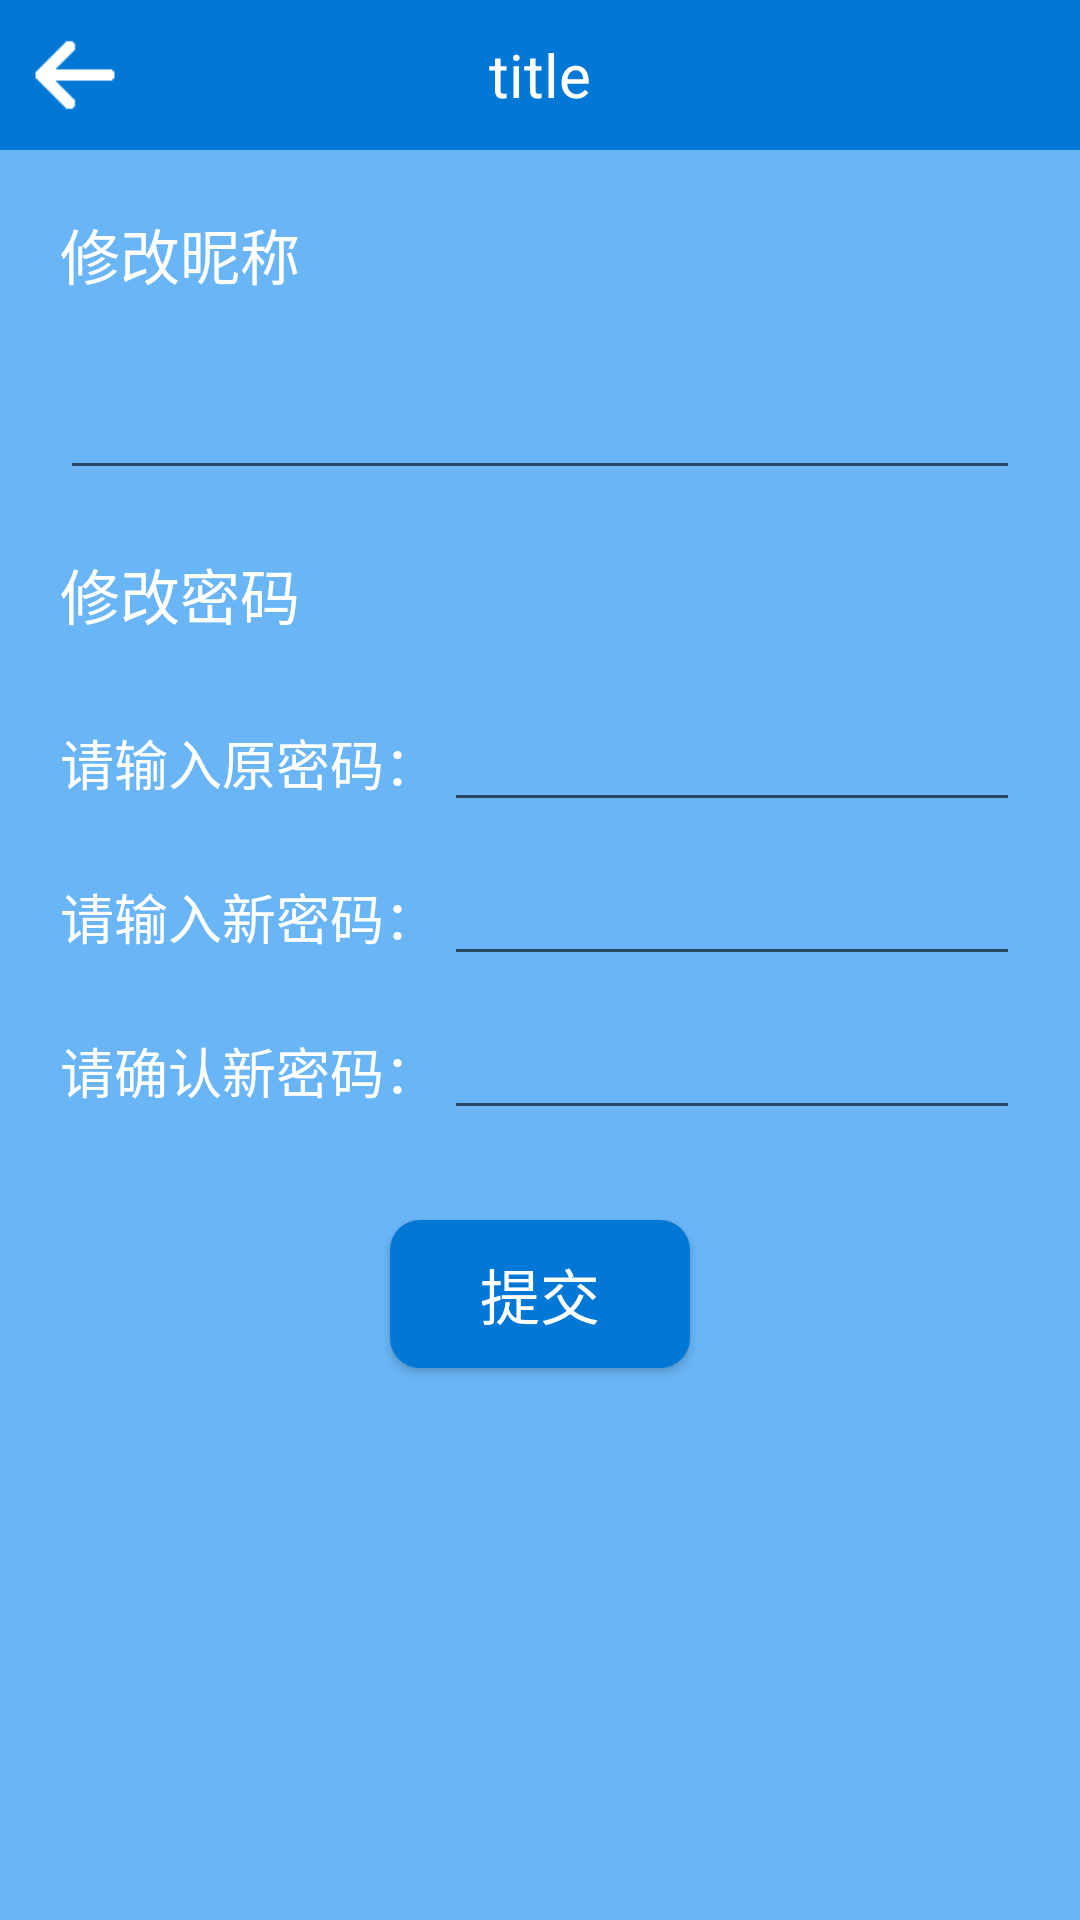

Screen size 1080 x 1920. Icon name, then its center in pixels as (x,y):
back: (75,75)
